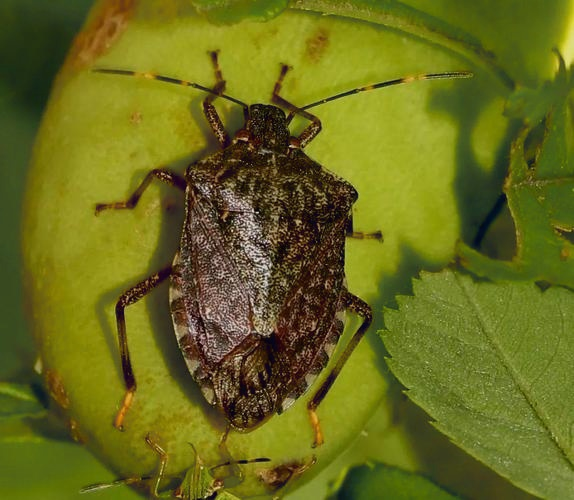Stink_Bug: (144, 79, 342, 413)
